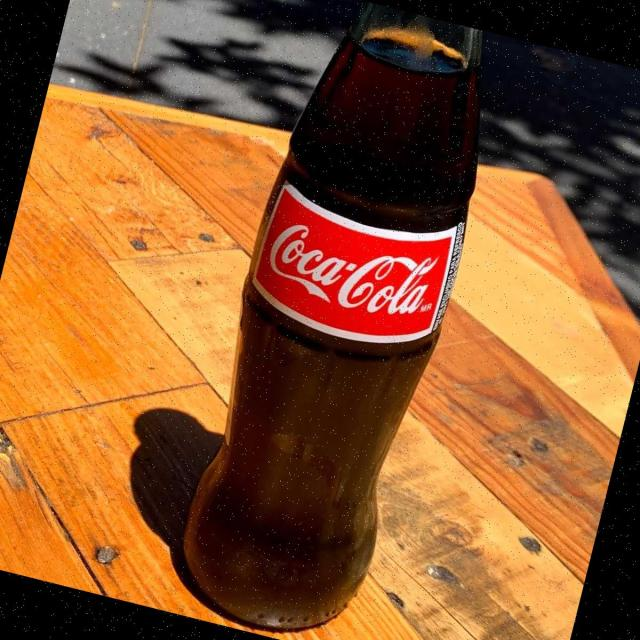coca-cola: (153, 0, 526, 640)
